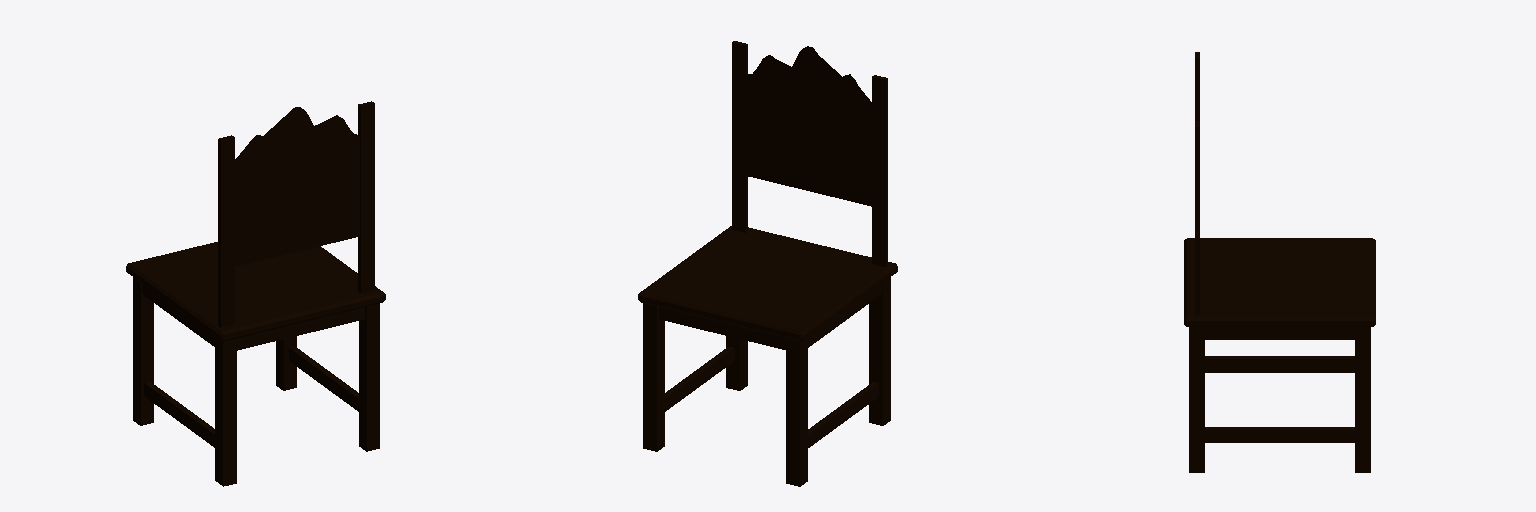
The model's file is chair.obj.
3 views of the same model, side by side, from view 1: azimuth 30°, elevation 25°; view 2: azimuth 150°, elevation 25°; view 3: azimuth 270°, elevation 25° (orthographic).
Parts seen in each view (by area): view 1: pCube11, pCube1, pCube9, pCube5, pCube10, pCube3, pCube6, pCube2, pCube7, pCube8, pCube4; view 2: pCube1, pCube11, pCube6, pCube4, pCube9, pCube10, pCube5, pCube2, pCube7, pCube8, pCube3; view 3: pCube1, pCube7, pCube8, pCube3, pCube4, pCube2, pCube10.
Part boxes in pixels (bbox=[...]): pCube11: bbox=[235, 107, 359, 266]; pCube1: bbox=[126, 242, 385, 341]; pCube9: bbox=[218, 135, 234, 327]; pCube5: bbox=[215, 337, 236, 486]; pCube10: bbox=[358, 101, 374, 293]; pCube3: bbox=[359, 303, 379, 451]; pCube6: bbox=[133, 277, 153, 425]; pCube2: bbox=[142, 284, 364, 350]; pCube7: bbox=[144, 382, 214, 447]; pCube8: bbox=[289, 346, 358, 411]; pCube4: bbox=[276, 336, 296, 390]; pCube1: bbox=[638, 226, 897, 341]; pCube11: bbox=[746, 46, 871, 206]; pCube6: bbox=[786, 338, 807, 486]; pCube4: bbox=[643, 303, 664, 451]; pCube9: bbox=[872, 75, 887, 266]; pCube10: bbox=[732, 41, 747, 232]; pCube5: bbox=[869, 277, 890, 425]; pCube2: bbox=[659, 284, 881, 349]; pCube7: bbox=[808, 382, 878, 447]; pCube8: bbox=[665, 347, 734, 411]; pCube3: bbox=[726, 336, 747, 390]; pCube1: bbox=[1184, 238, 1375, 326]; pCube7: bbox=[1205, 356, 1354, 372]; pCube8: bbox=[1205, 427, 1354, 442]; pCube3: bbox=[1189, 327, 1204, 472]; pCube4: bbox=[1355, 327, 1370, 472]; pCube2: bbox=[1205, 327, 1354, 339]; pCube10: bbox=[1195, 121, 1199, 314].
Bounding box in the file's own units: 9.28 × 19.03 × 9.28.